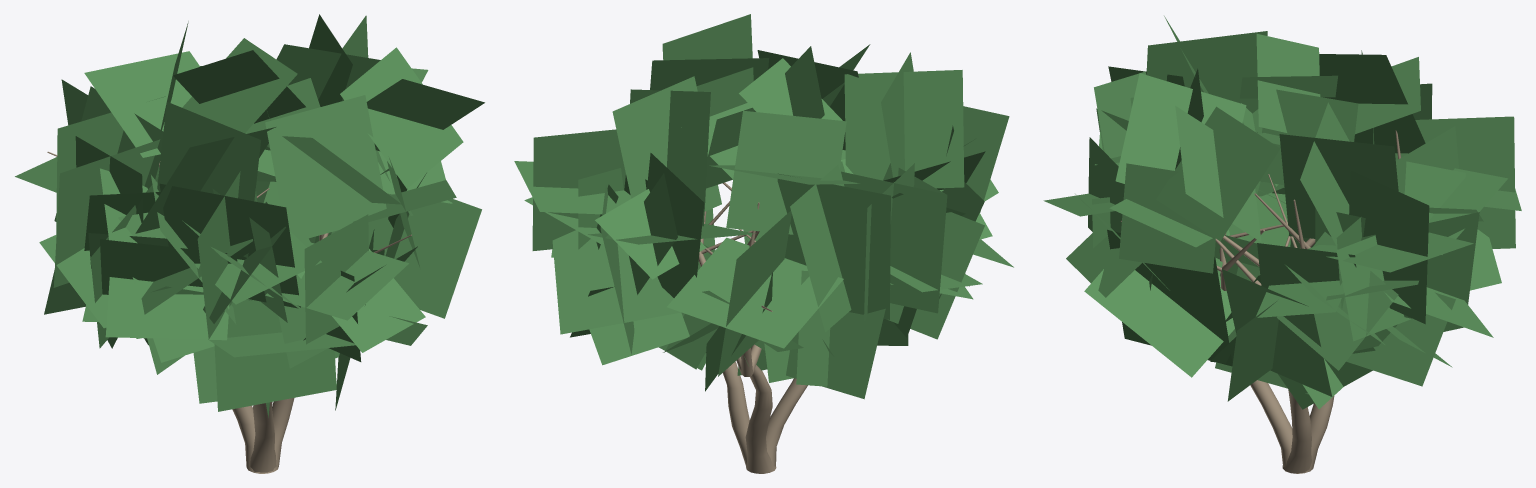
File: tree_olive.glb
The picture shows the model from 3 angles, left to right: view 1: azimuth 30°, elevation 25°; view 2: azimuth 150°, elevation 25°; view 3: azimuth 270°, elevation 25°; orthographic projection. The views are drawn at different scales.
Visible parts, largest first — view 1: tree_olive; view 2: tree_olive; view 3: tree_olive.
Part boxes in pixels (x1,y1,x2,y2): tree_olive: (15, 14, 484, 473); tree_olive: (514, 14, 1013, 473); tree_olive: (1043, 16, 1521, 473).
Size of the model in its own units: 5.51 by 5.42 by 5.61.
